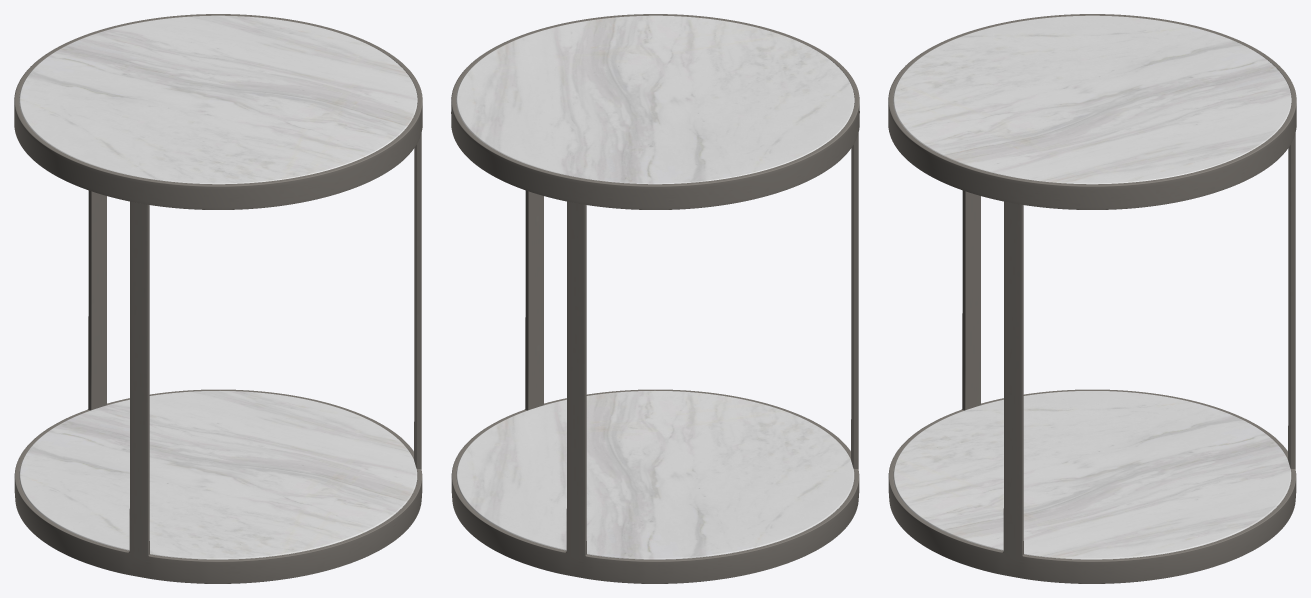
Rendered from B072ZMSBQT.glb.
3 renders of one model, left to right at view 1: azimuth 30°, elevation 25°; view 2: azimuth 150°, elevation 25°; view 3: azimuth 270°, elevation 25°, orthographic.
Visible parts, largest first — view 1: RootNode; view 2: RootNode; view 3: RootNode.
Part boxes in pixels (<box>): RootNode: <box>14,14,422,583</box>; RootNode: <box>451,14,859,583</box>; RootNode: <box>888,14,1296,583</box>.
Bounding box in the file's own units: 0.445 × 0.4792 × 0.445.
Materials: 1 (1 with a texture image).
